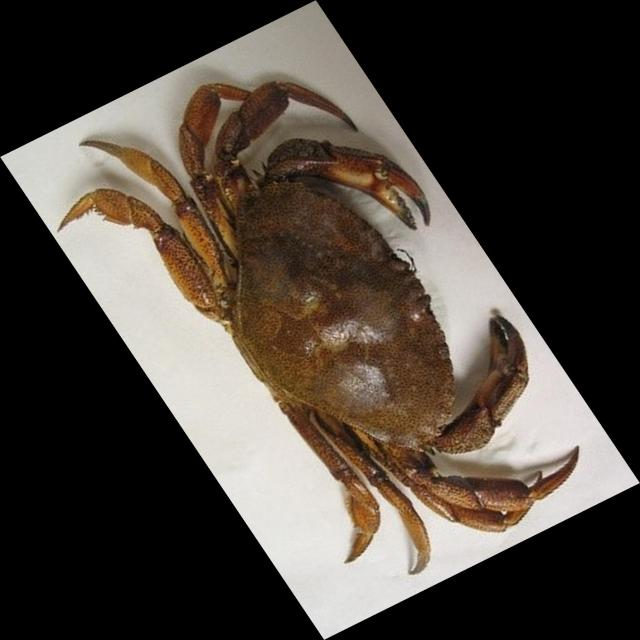Native Rock crab: (59, 81, 579, 574)
